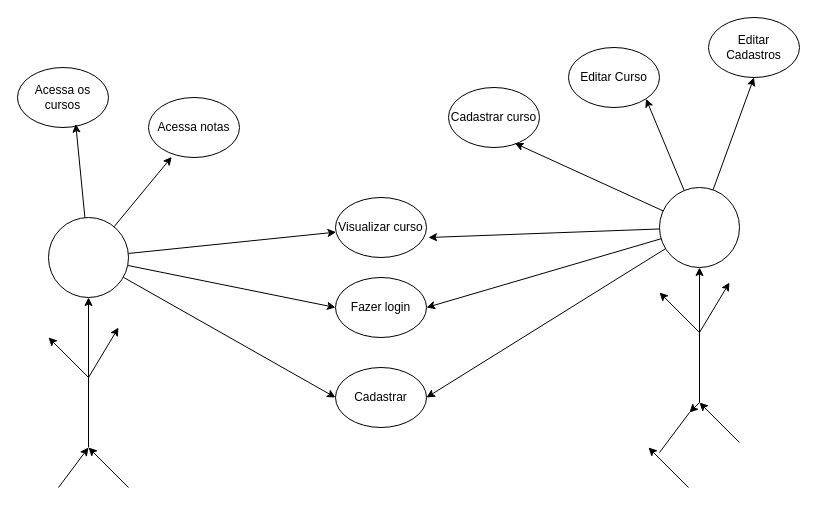
Image size: 817x513. Some labels were removed from this diagram. The box of each missing label's shape, as (x1, y1, x2, y2) in pixels:
ADM: (658, 186, 740, 268)
Usuário: (48, 216, 128, 298)
